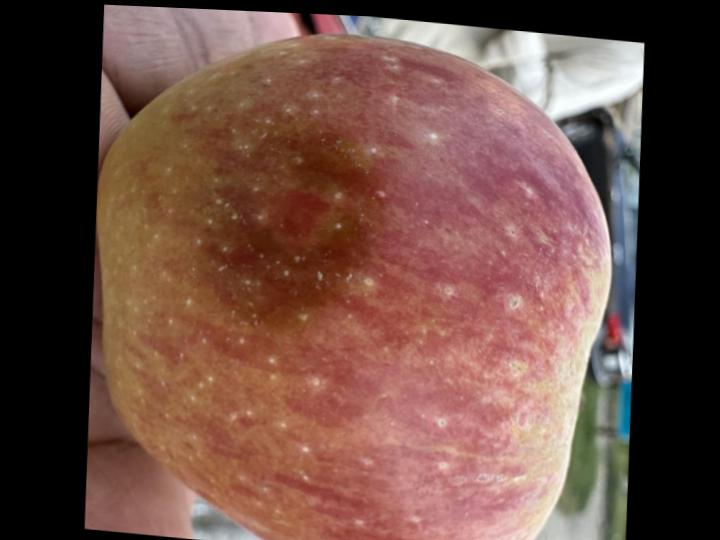apple: (98, 34, 610, 540)
bruise_discoloration: (207, 135, 377, 320)
